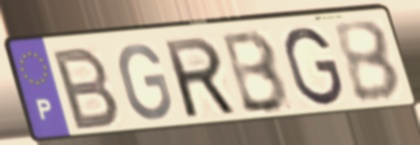B: (329, 17, 405, 105), (50, 43, 123, 133), (220, 27, 292, 116)
G: (281, 25, 346, 109), (116, 41, 176, 123)
R: (160, 34, 240, 122)
